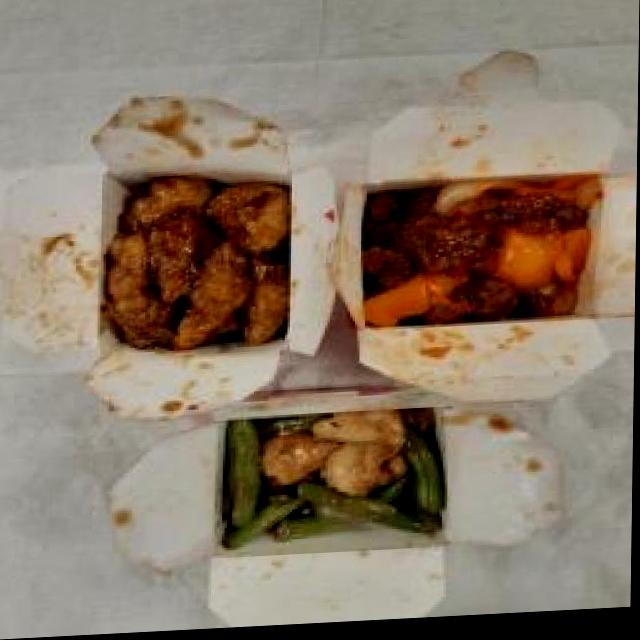Beijing Beef: (356, 174, 596, 338)
String Bean Chicken Breast: (213, 407, 445, 554)
The Original Orange Chicken: (99, 168, 304, 369)
